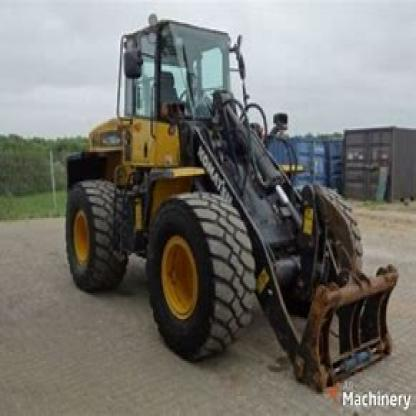bull_dozer/loader/grader: (57, 10, 395, 402)
